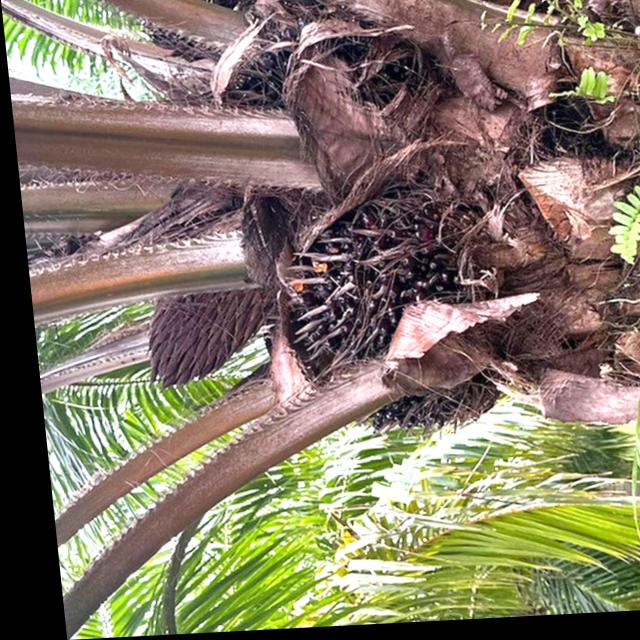ripe: (254, 191, 502, 456)
